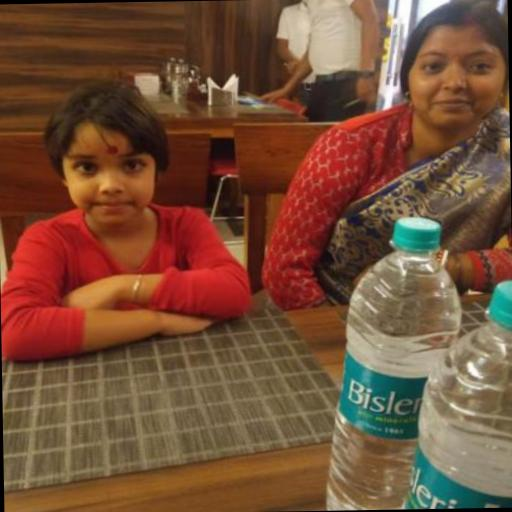Coca: (312, 207, 474, 510), (389, 269, 512, 508)
